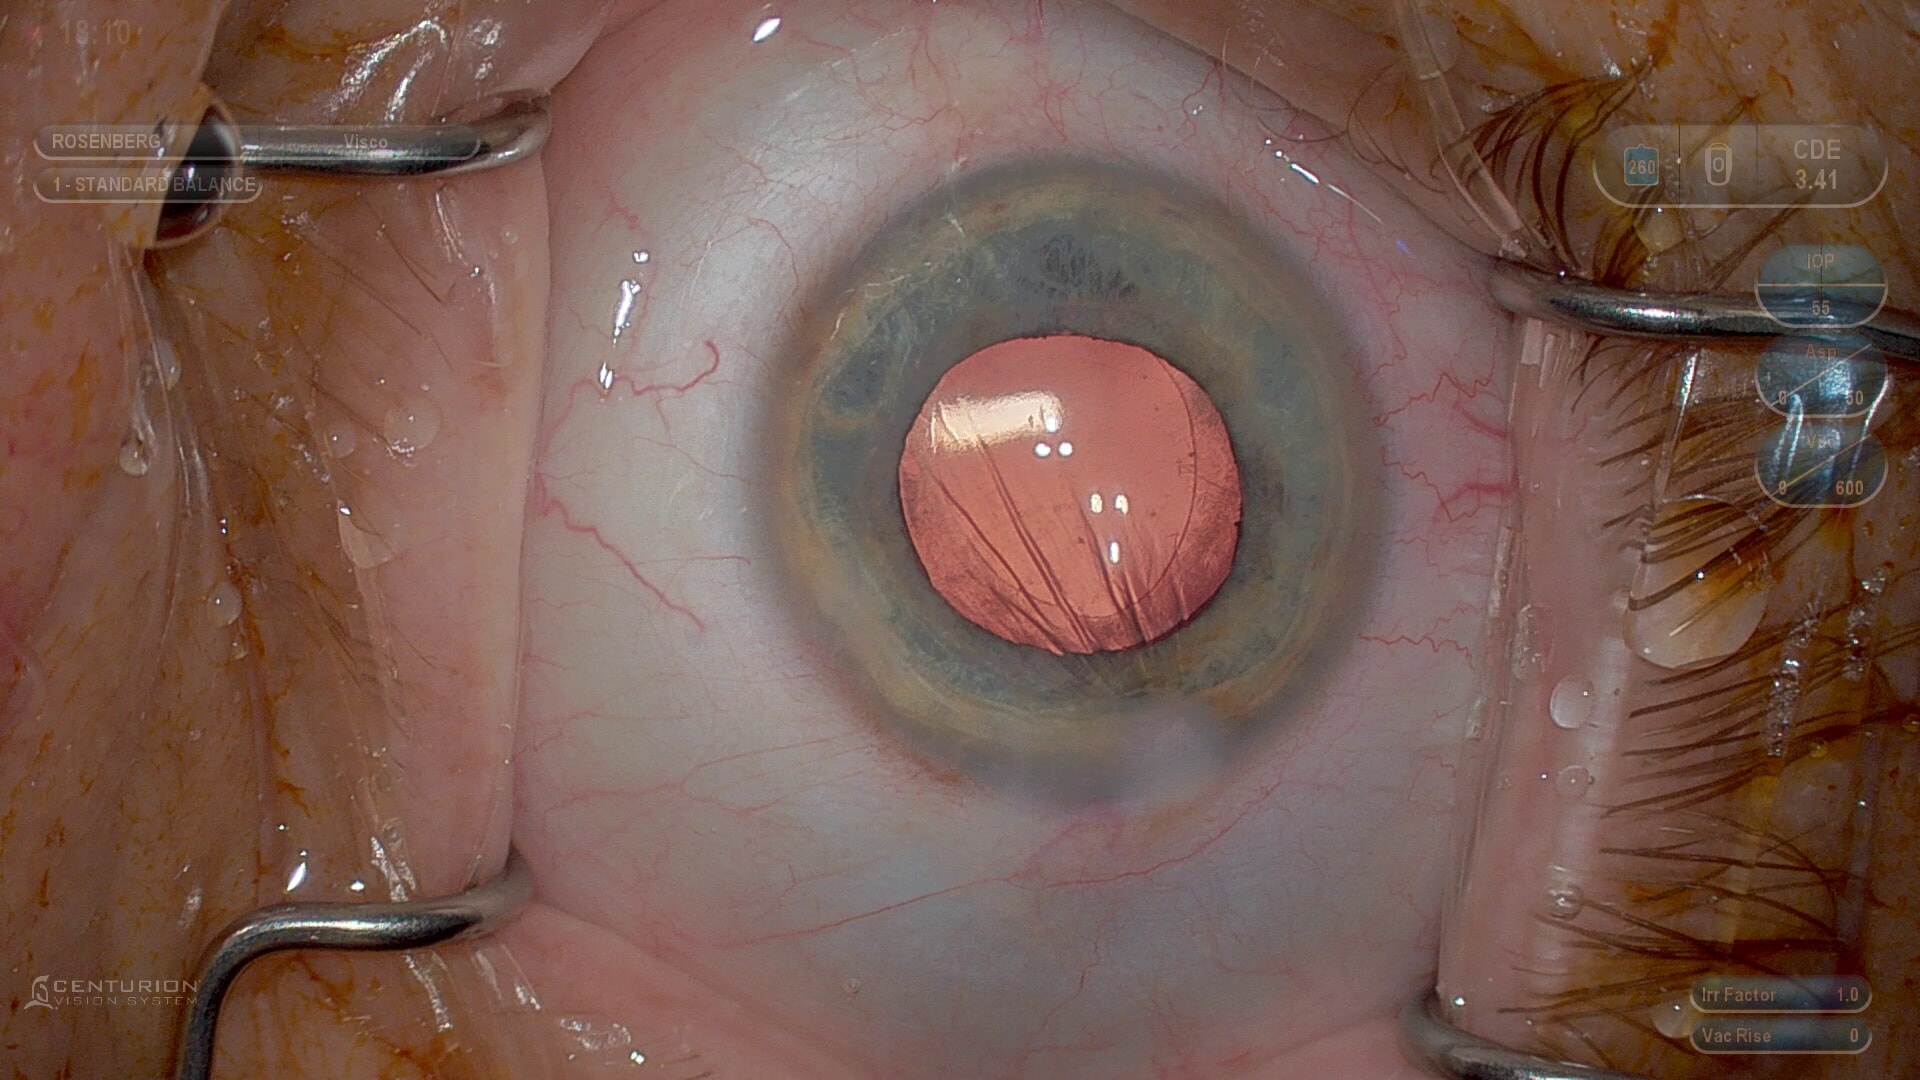iris: (791, 167, 1371, 780)
pupil: (899, 333, 1252, 658)
